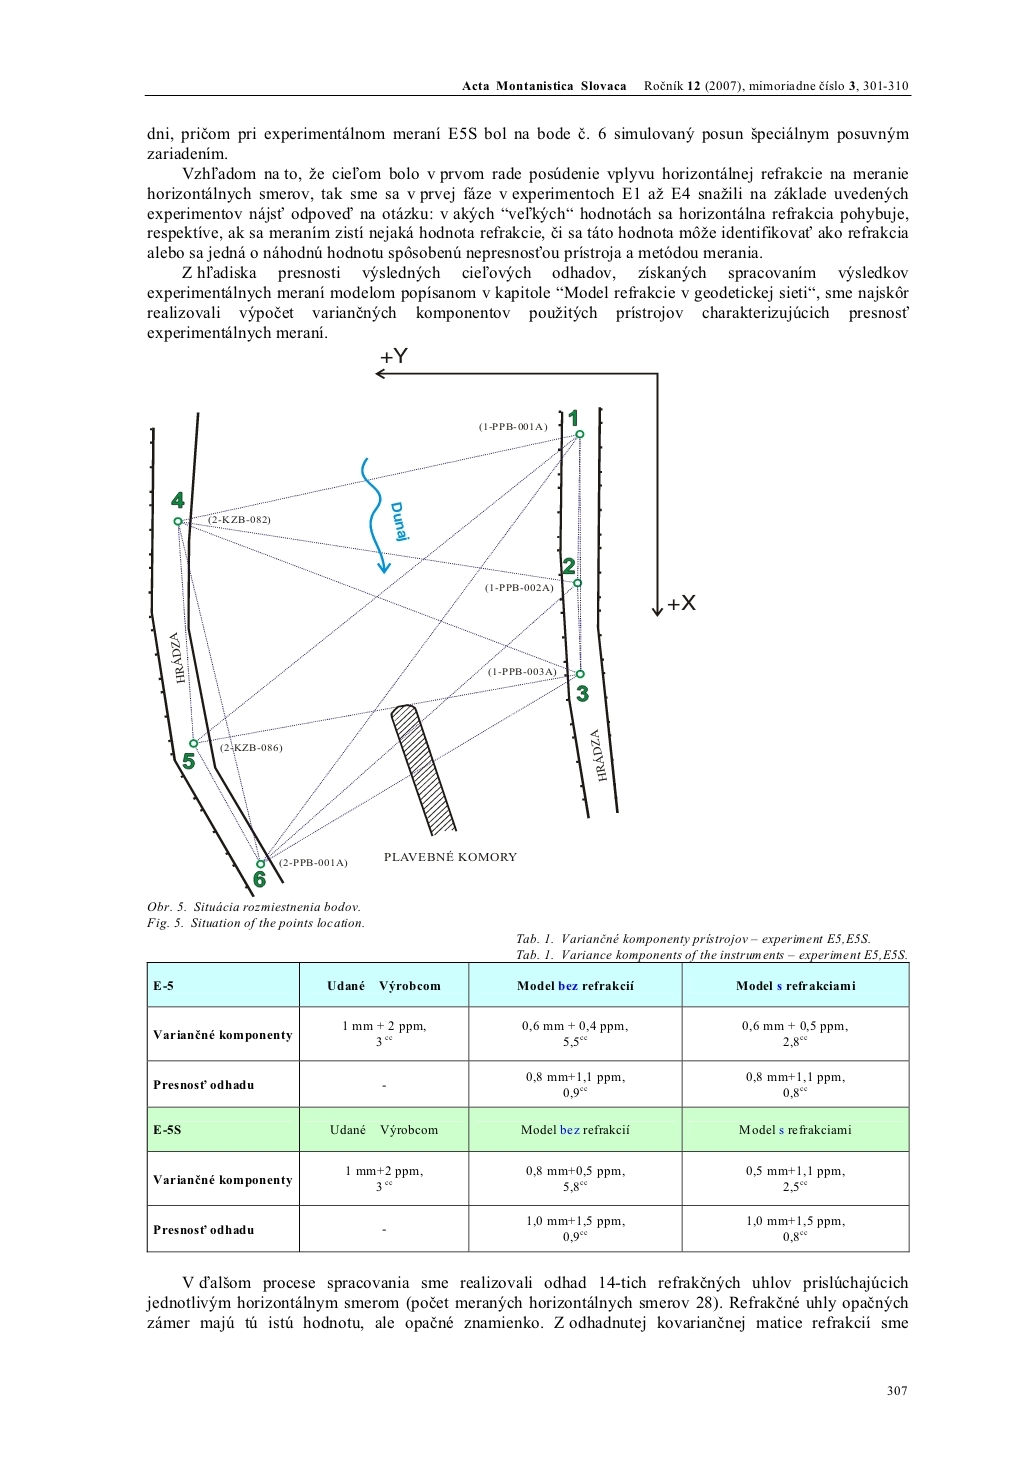Table: (146, 960, 909, 1252)
figure: (148, 347, 695, 897)
